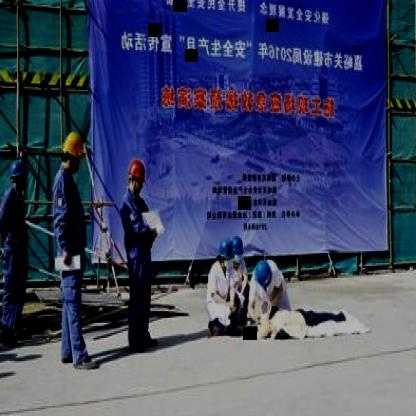helmet: (250, 254, 280, 302), (60, 128, 86, 173), (126, 158, 144, 198), (8, 156, 26, 192), (229, 232, 243, 266), (216, 238, 233, 264)
